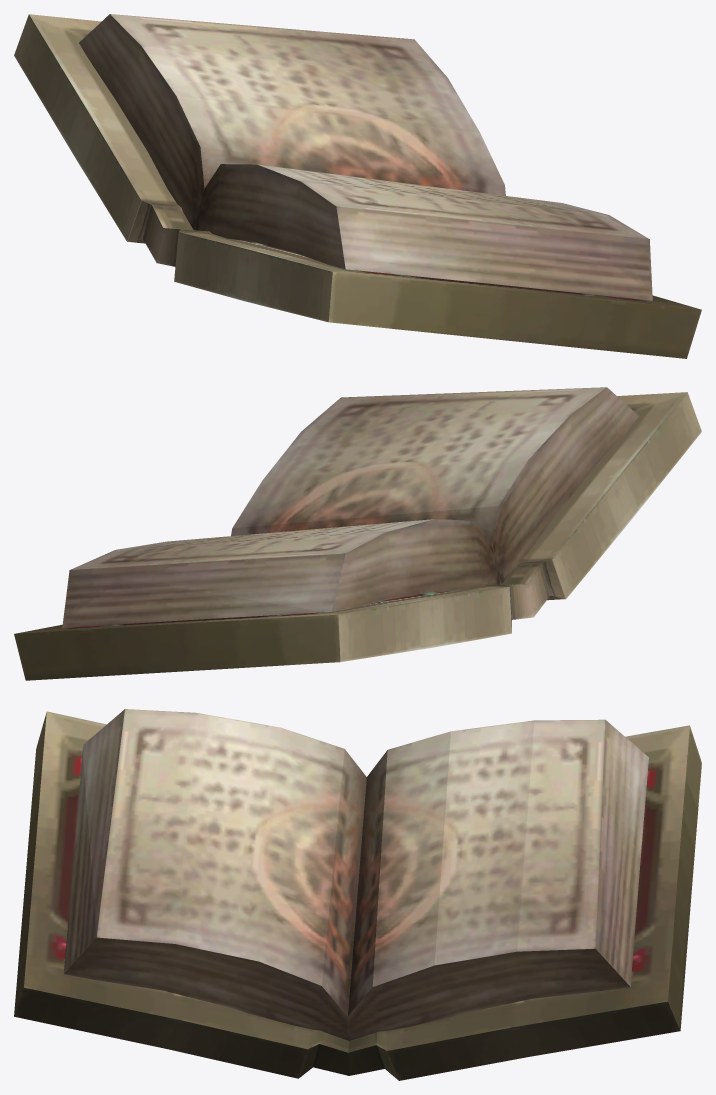
File: common_righthanditem_101020.obj
The picture shows the model from 3 angles, top to bottom: view 1: azimuth 30°, elevation 25°; view 2: azimuth 150°, elevation 25°; view 3: azimuth 270°, elevation 25°; orthographic projection. The views are drawn at different scales.
Parts seen in each view (by area): view 1: common_leftHandShield_101020; view 2: common_leftHandShield_101020; view 3: common_leftHandShield_101020.
Boxes of the visible parts, x1,y1,x2,y2 form: common_leftHandShield_101020: (14,14,701,358); common_leftHandShield_101020: (14,387,701,680); common_leftHandShield_101020: (14,709,701,1080).
Size of the model in its own units: 17.74 by 10.44 by 27.36.
Materials: 1 (1 with a texture image).
